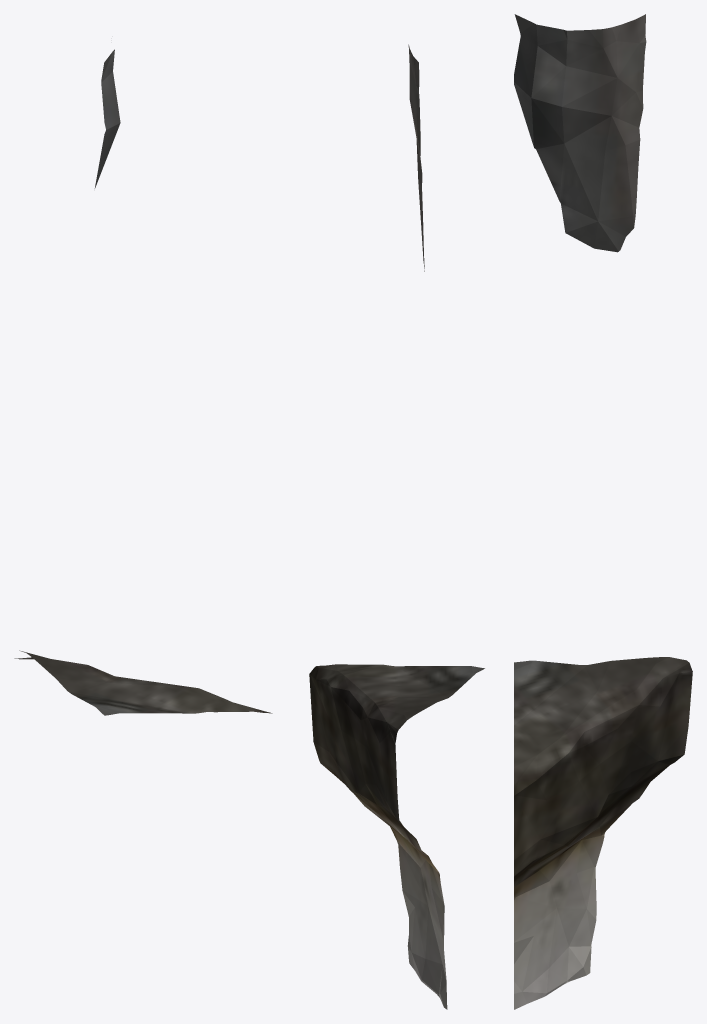
3 views of the same model, side by side, from view 1: azimuth 30°, elevation 25°; view 2: azimuth 150°, elevation 25°; view 3: azimuth 270°, elevation 25° (orthographic).
Size of the model in its own units: 0.1596 by 0.8374 by 0.1415.
Materials: 1 (1 with a texture image).
